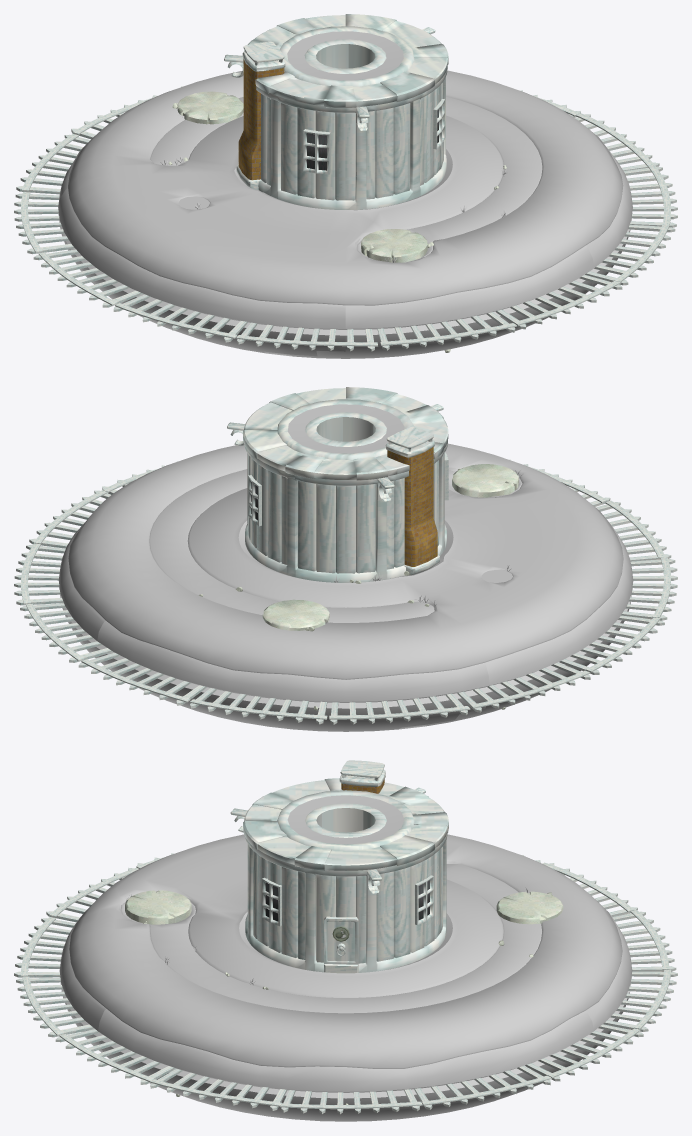
The model's file is UFOShapePassThroughPlanet.dae.
The picture shows the model from 3 angles, top to bottom: view 1: azimuth 30°, elevation 25°; view 2: azimuth 150°, elevation 25°; view 3: azimuth 270°, elevation 25°; orthographic projection.
Parts seen in each view (by area): view 1: n16b8, n17b12, n0b16, n3b1, n15b9, n18b10, n14b15, n19b0, n10b19, n5b6, n11b17, n4b7; view 2: n16b8, n17b12, n0b16, n3b1, n15b9, n18b10, n14b15, n19b0, n10b19, n11b17, n5b6; view 3: n16b8, n17b12, n0b16, n3b1, n15b9, n14b15, n18b10, n19b0, n5b6, n11b17, n4b7.
Part boxes in pixels (x1,y1,x2,y2): n16b8: [68, 31, 623, 305]; n17b12: [58, 96, 632, 329]; n0b16: [14, 86, 677, 351]; n3b1: [224, 27, 443, 200]; n15b9: [236, 26, 447, 209]; n18b10: [58, 213, 632, 358]; n14b15: [243, 14, 448, 107]; n19b0: [177, 91, 427, 262]; n10b19: [238, 59, 284, 180]; n5b6: [303, 99, 444, 174]; n11b17: [242, 41, 285, 71]; n4b7: [307, 109, 438, 170]; n16b8: [68, 404, 623, 679]; n17b12: [58, 469, 633, 702]; n0b16: [14, 459, 677, 724]; n3b1: [227, 404, 443, 573]; n15b9: [244, 399, 447, 582]; n18b10: [59, 587, 632, 731]; n14b15: [243, 387, 448, 480]; n19b0: [262, 464, 518, 630]; n10b19: [387, 447, 437, 566]; n11b17: [385, 427, 434, 457]; n5b6: [248, 452, 448, 526]; n16b8: [69, 795, 622, 1068]; n17b12: [59, 864, 632, 1092]; n0b16: [14, 853, 677, 1114]; n3b1: [230, 787, 442, 963]; n15b9: [244, 790, 447, 973]; n14b15: [243, 778, 448, 961]; n18b10: [60, 976, 631, 1121]; n19b0: [125, 890, 563, 924]; n5b6: [262, 875, 433, 964]; n11b17: [339, 760, 385, 786]; n4b7: [265, 880, 429, 921].
Bounding box in the file's own units: 5507 × 2737 × 5532.
